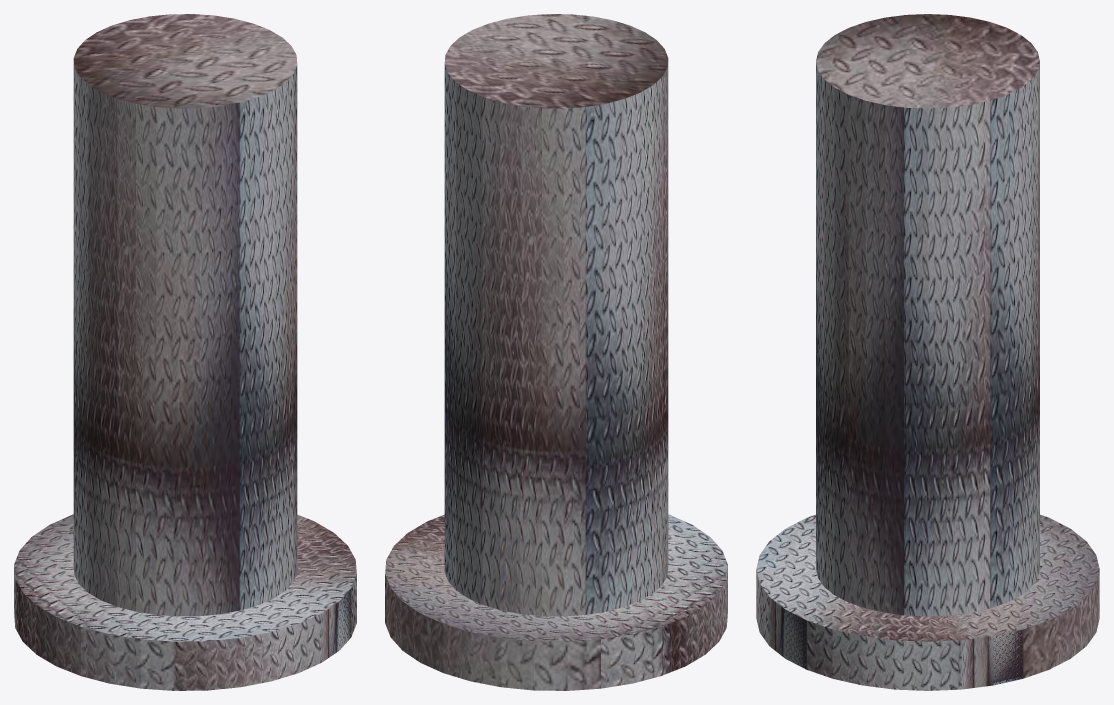
The model's file is table_leg.fbx.
3 views of the same model, side by side, from view 1: azimuth 30°, elevation 25°; view 2: azimuth 150°, elevation 25°; view 3: azimuth 270°, elevation 25° (orthographic).
Visible parts, largest first — view 1: Cylinder; view 2: Cylinder; view 3: Cylinder.
Boxes of the visible parts, <box> form: Cylinder: <box>14,14,356,690</box>; Cylinder: <box>385,14,727,690</box>; Cylinder: <box>756,14,1099,690</box>.
Size of the model in its own units: 306 by 549 by 306.
